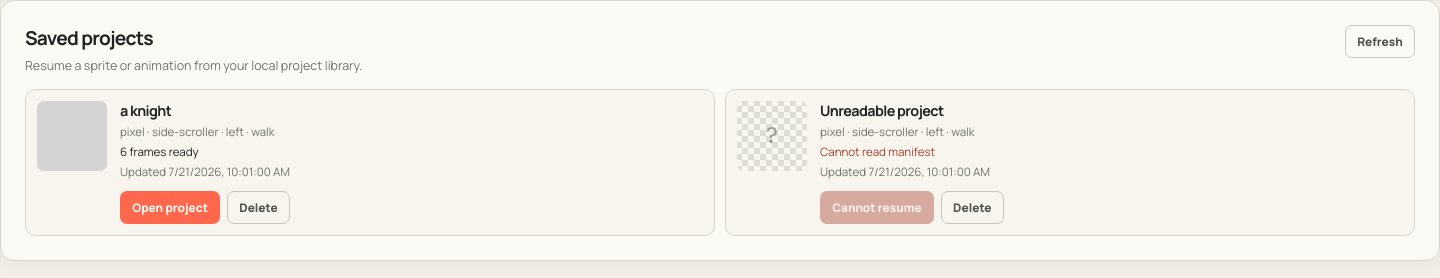
Test: ProjectBrowser › explains unhealthy projects and deletes after confirmation
This screenshot has width=1440, height=278.
expect the text "Cannot read manifest" is shown: met, box x1=820 y1=144 x2=935 y2=159
expect the button "Cannot resume" is disabled: met, box x1=820 y1=191 x2=934 y2=224
Click the button with aria-label "Delete project broken" at (972, 207), box x1=941 y1=191 x2=1004 y2=224
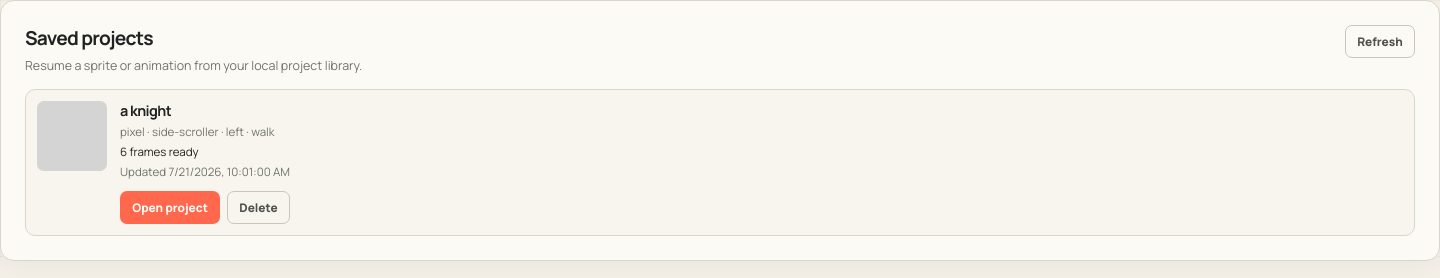
expect the heading "Unreadable project" is gone: met
